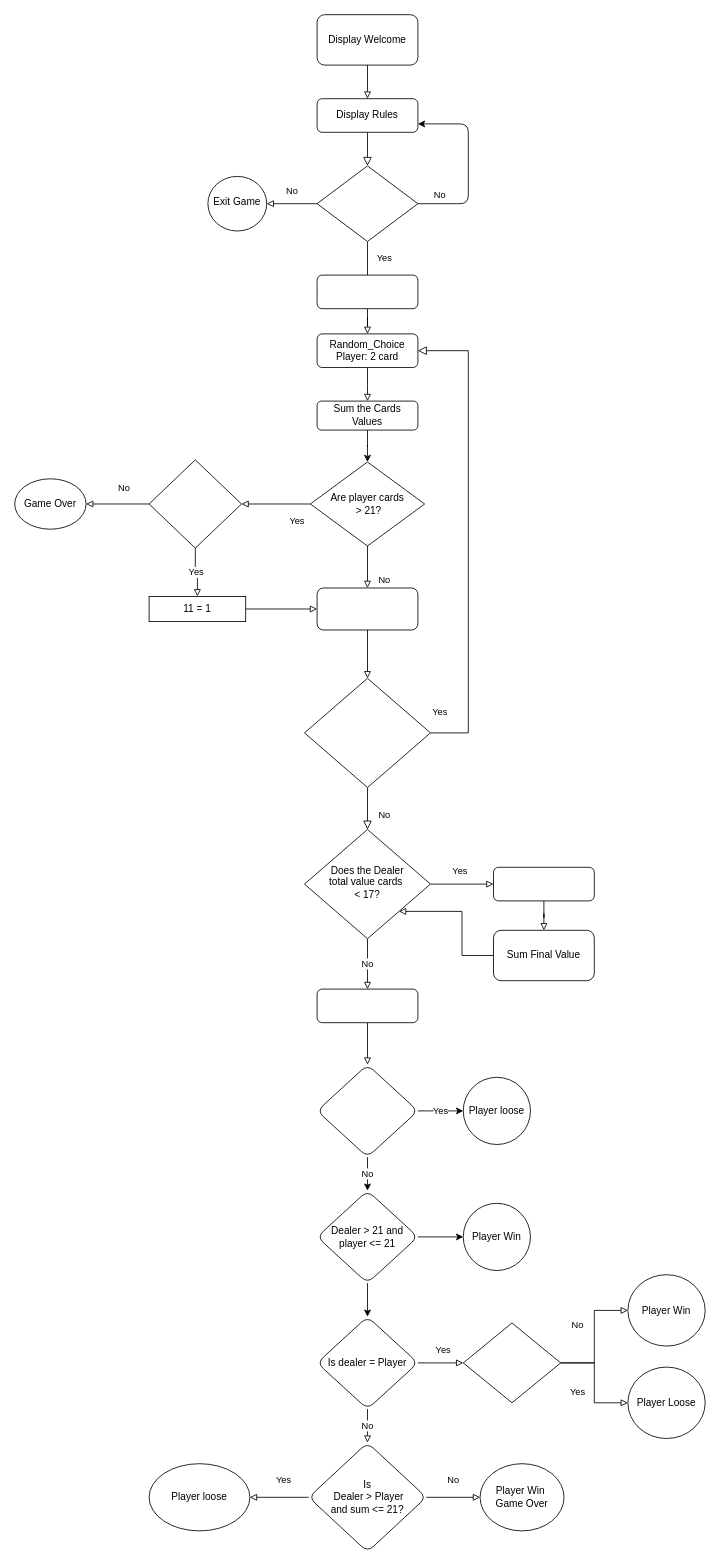
Image size: 720x1567. Some labels were removed from this diagram. Here are the shapes that lost their labels. From the top down, the box of each, then its label:
(316, 165, 418, 242): Are you ready to play?
(316, 274, 418, 309): Random_Choice Dealer: 2 card
(148, 459, 242, 548): Does he get an 11 card?
(316, 587, 418, 630): Print Cards and total value. Only the first for Dealer
(304, 677, 430, 788): Does the Player want one more card?
(493, 866, 594, 901): Get one more card
(316, 988, 418, 1023): Compare
(316, 1064, 418, 1157): If player > 21
(462, 1322, 561, 1403): Are dealer #cards <= Player?
